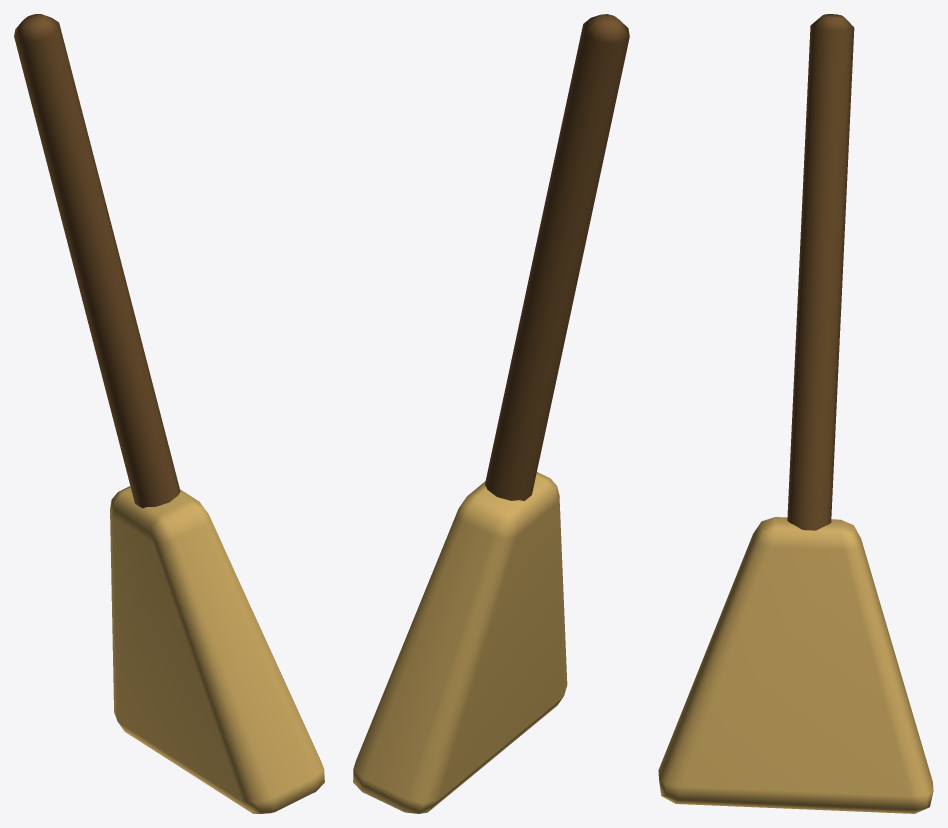
File: Escoba.fbx
3 views of the same model, side by side, from view 1: azimuth 30°, elevation 25°; view 2: azimuth 150°, elevation 25°; view 3: azimuth 270°, elevation 25° (orthographic). The views are drawn at different scales.
Visible parts, largest first — view 1: Escoba; view 2: Escoba; view 3: Escoba.
Part boxes in pixels (x1=…): Escoba: x1=14, y1=14, x2=324, y2=813; Escoba: x1=353, y1=14, x2=629, y2=813; Escoba: x1=658, y1=14, x2=933, y2=813.
Size of the model in its own units: 82.2 by 276 by 95.13.
Materials: 1 (1 with a texture image).
